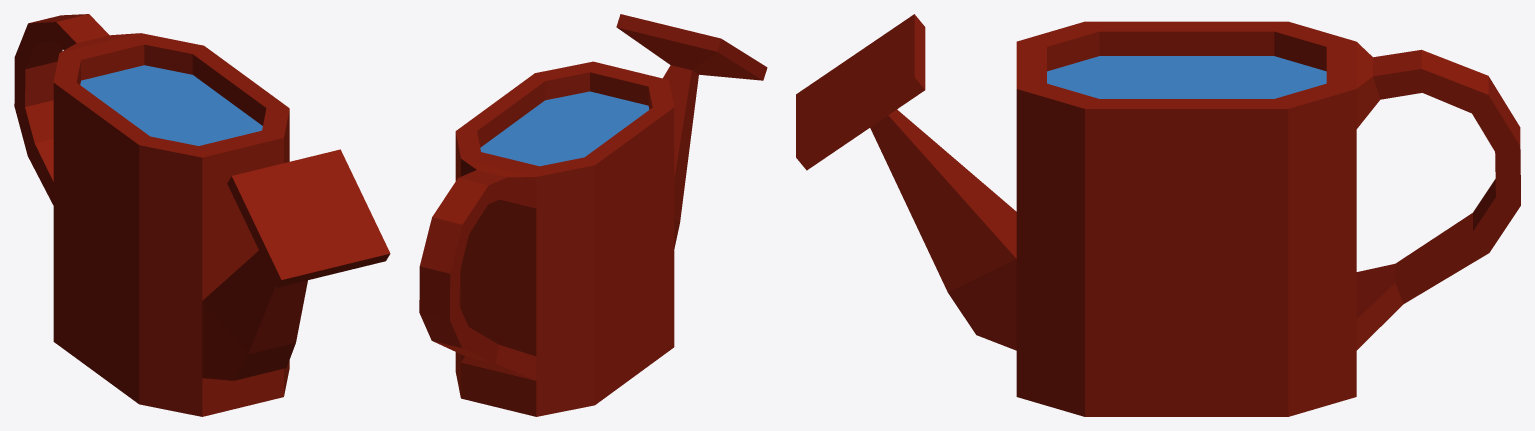
Rendered from Watering Can.fbx.
3 views of the same model, side by side, from view 1: azimuth 30°, elevation 25°; view 2: azimuth 150°, elevation 25°; view 3: azimuth 270°, elevation 25° (orthographic). The views are drawn at different scales.
Visible parts, largest first — view 1: Watering Can; view 2: Watering Can; view 3: Watering Can.
Boxes of the visible parts, x1,y1,x2,y2 form: Watering Can: [14, 14, 390, 416]; Watering Can: [419, 14, 767, 416]; Watering Can: [796, 14, 1520, 416].
Size of the model in its own units: 35.91 by 62.84 by 126.
